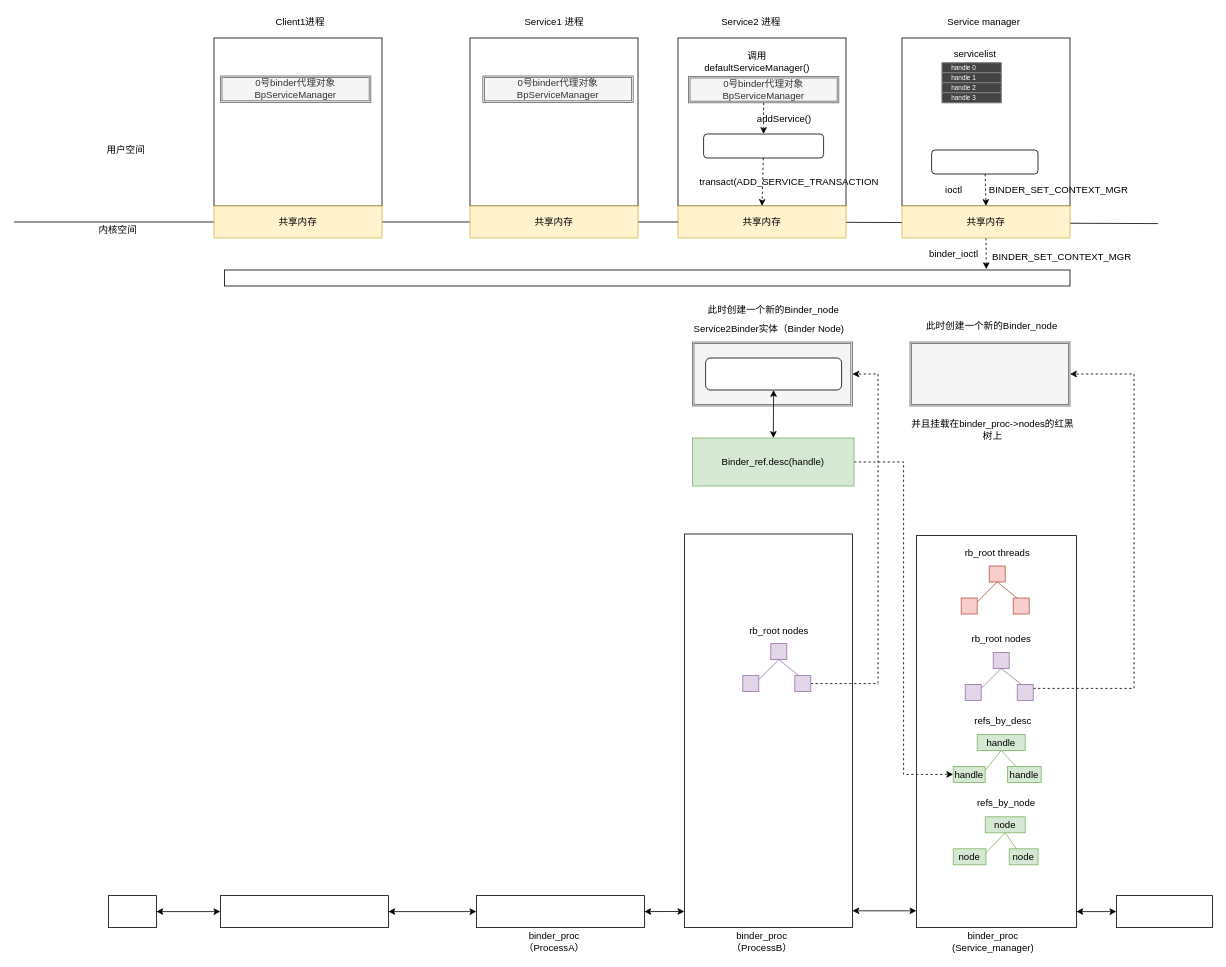
Some shapes in this 1226 by 967 pixel diagram are drawn without their labels. The centre of each missing label's shape, as x and y in pixels:
/dev/binder: (x=647, y=277)
bpBinder/IPCThreadState: (x=763, y=145)
main(): (x=984, y=161)
NULL: (x=1164, y=911)
Service Manager Binder实体 （Binder Node): (x=989, y=373)
struct hlist_head refs: (x=773, y=373)
全局hash: (x=132, y=911)
